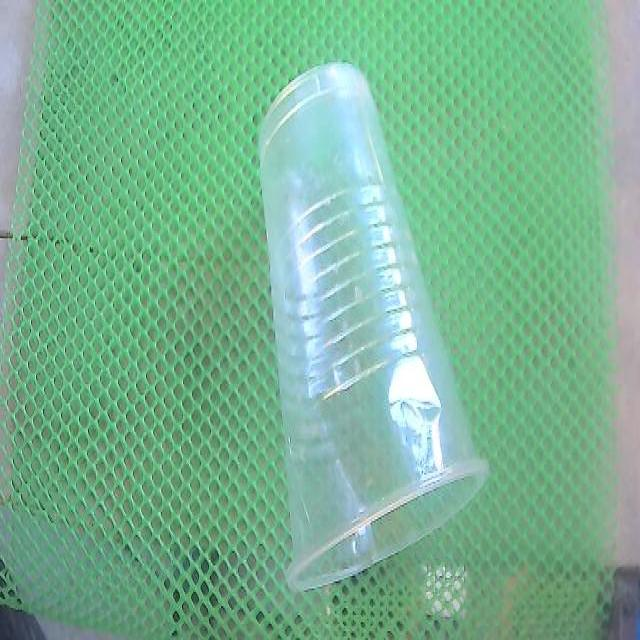bottle: (260, 64, 489, 591)
